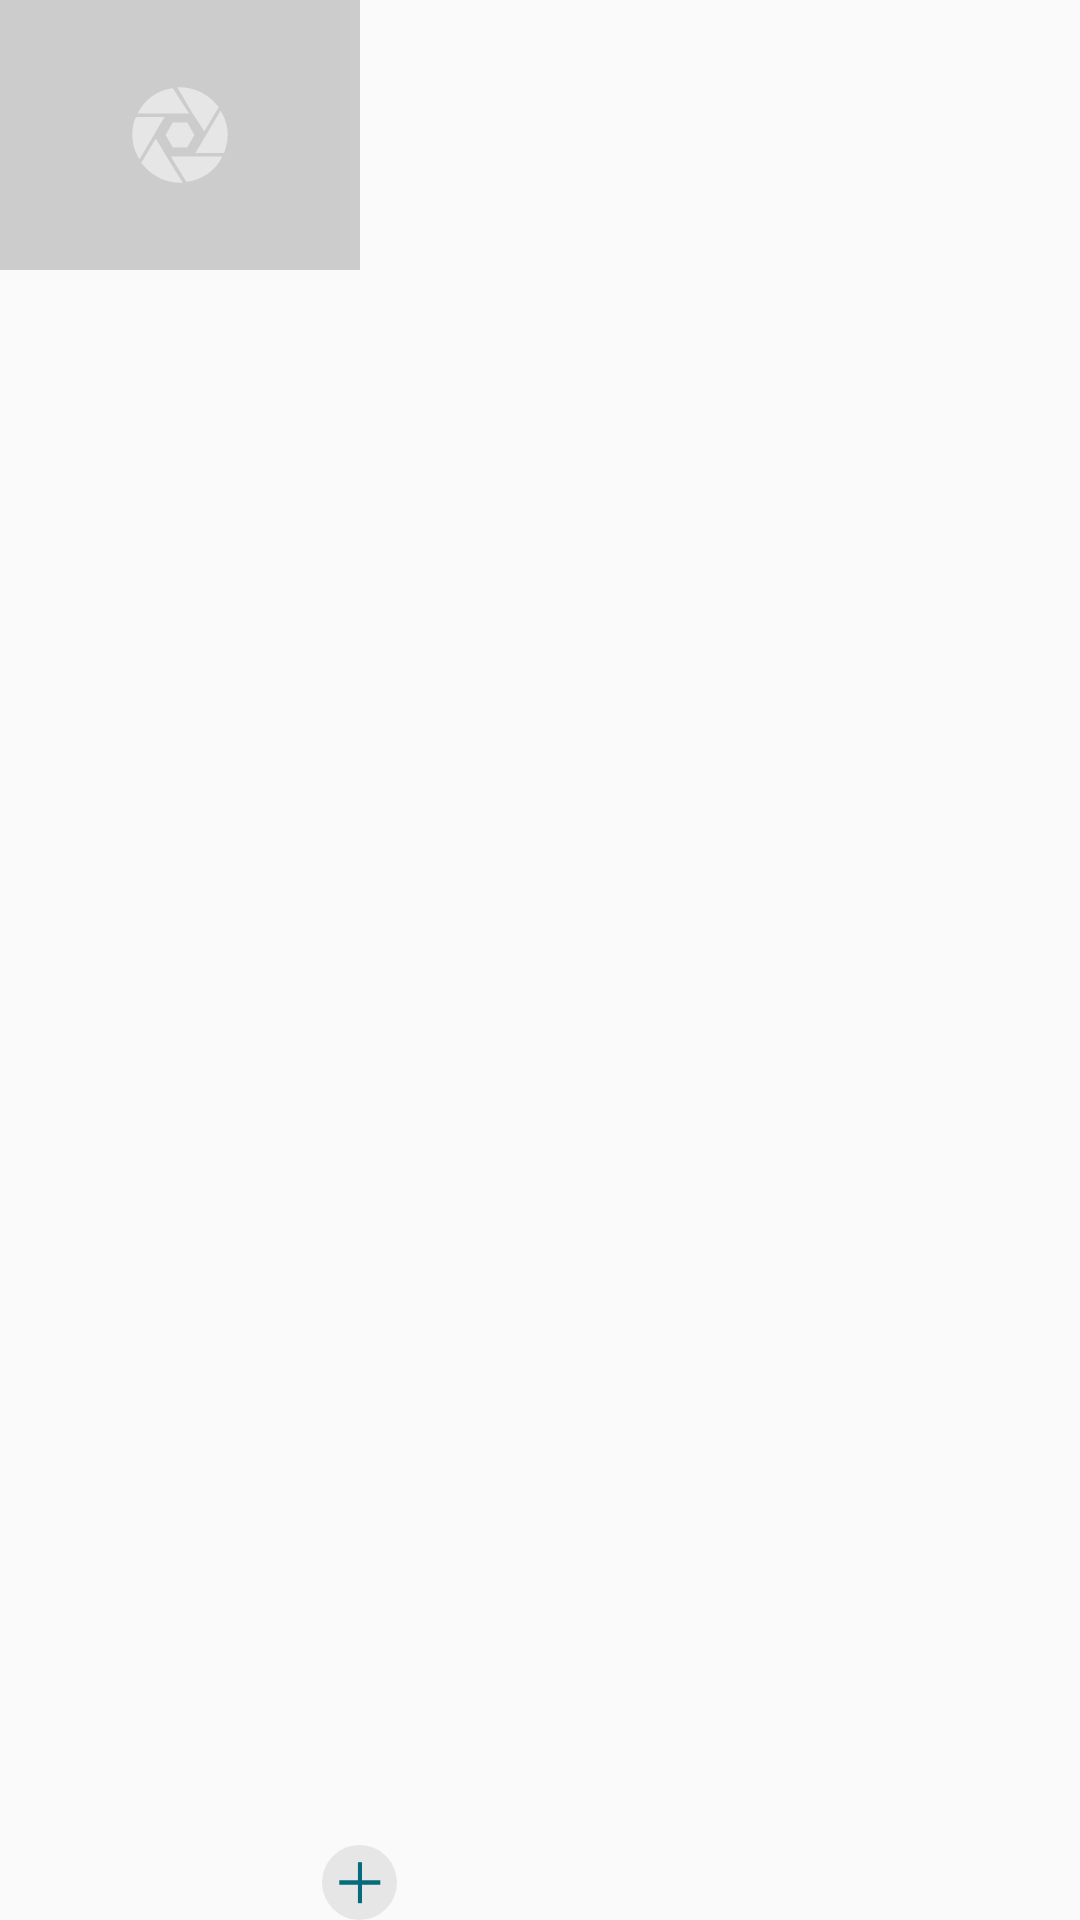

Where to tap for icons on this 1080px x 1920px app screen, as [x,y]:
addpic: [359,1882]
